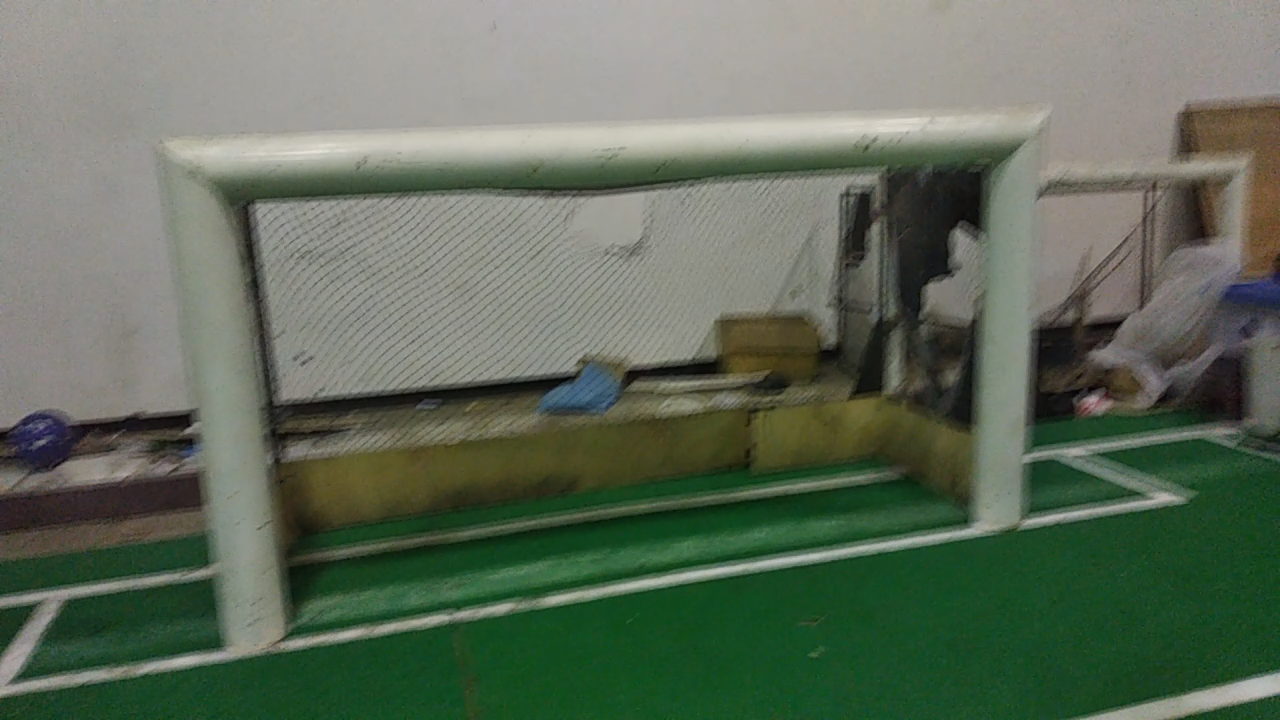gawang: (129, 91, 1066, 663)
